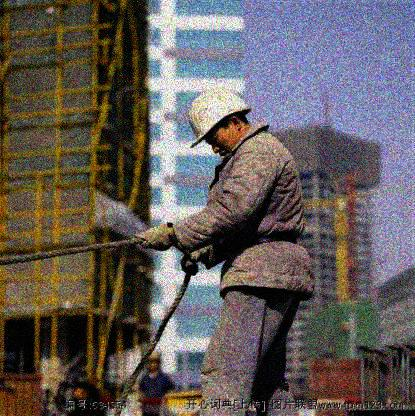helmet: (187, 88, 254, 162), (146, 351, 161, 373)
